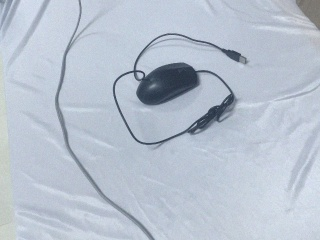mouse: (136, 62, 199, 105)
